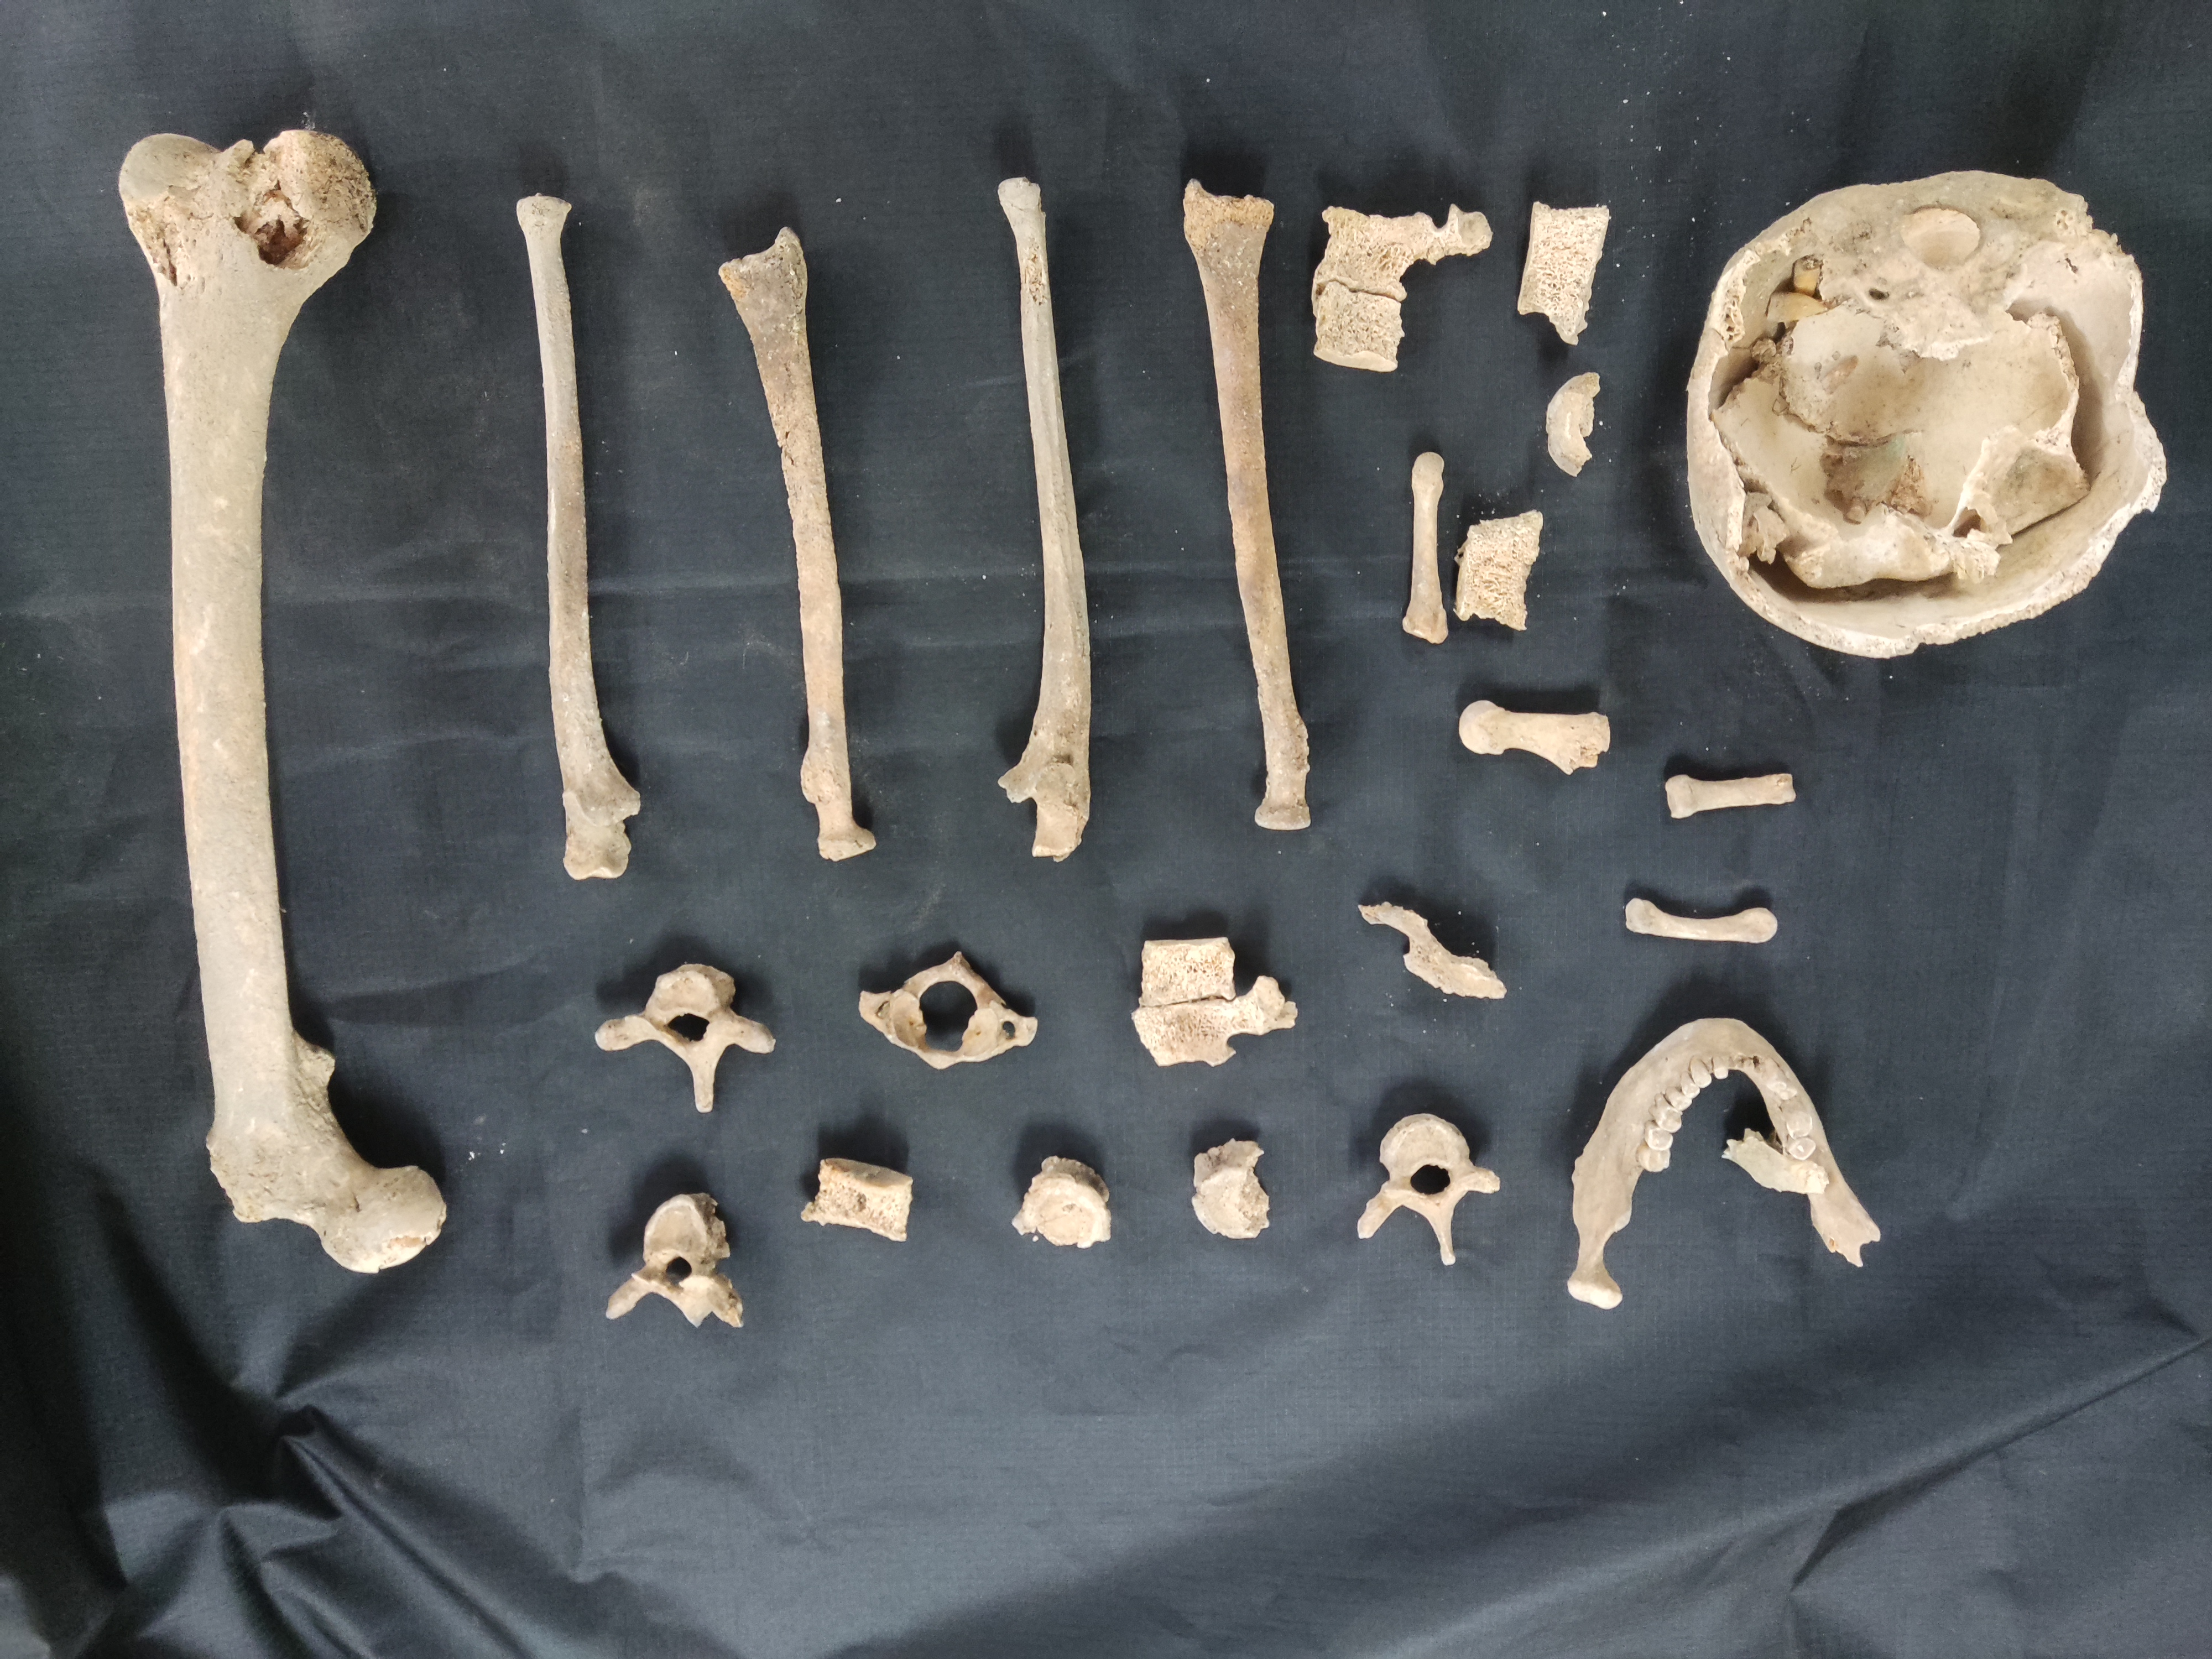бедренная: (105, 117, 446, 1279)
грудной позвонок: (1357, 1107, 1498, 1265), (603, 1187, 745, 1330)
локтевая: (509, 186, 665, 892), (979, 176, 1099, 856)
лучевая: (712, 225, 878, 863), (1169, 174, 1312, 842)
сломанный позвонок: (1312, 197, 1494, 378), (1125, 932, 1301, 1072), (1507, 192, 1620, 350), (1359, 890, 1508, 999), (1458, 500, 1541, 641), (801, 1148, 916, 1243), (1012, 1154, 1113, 1255), (1184, 1136, 1273, 1241), (1531, 371, 1608, 476)
стопа: (1446, 692, 1620, 779), (1390, 443, 1449, 647), (1615, 887, 1782, 945), (1662, 763, 1799, 824)
челюсть: (1552, 1016, 1883, 1305)
череп: (1670, 166, 2188, 666)
шейный позвонок: (596, 960, 786, 1115), (855, 946, 1036, 1072)
